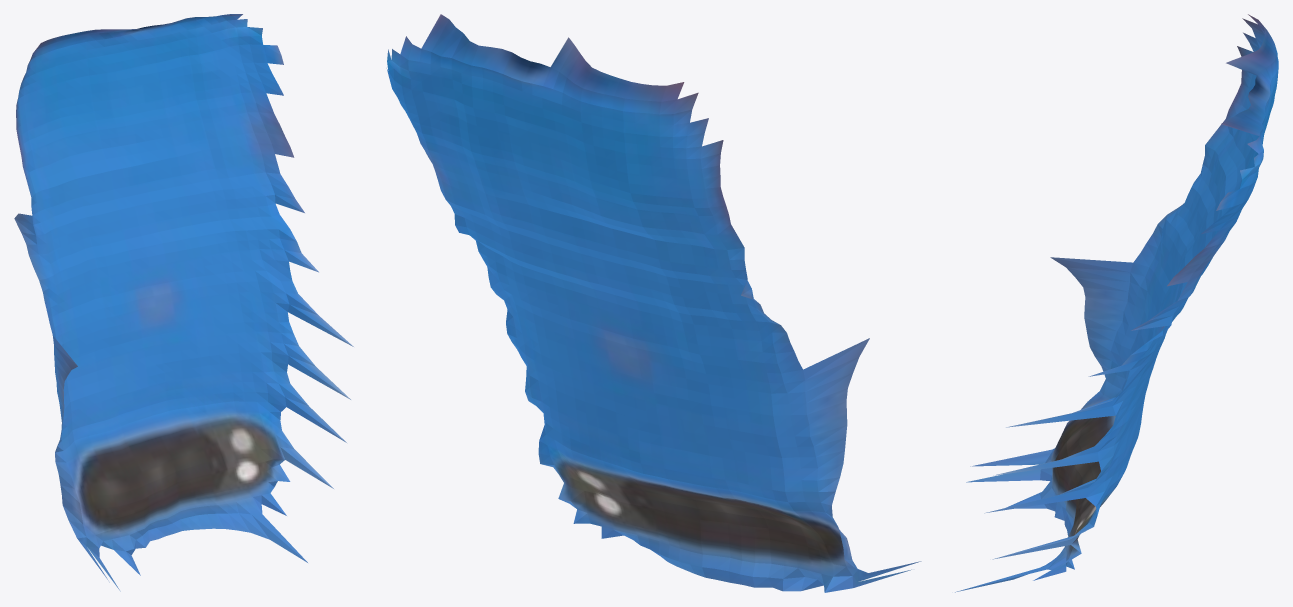
Rendered from observed-surface.glb.
The picture shows the model from 3 angles, left to right: view 1: azimuth 30°, elevation 25°; view 2: azimuth 150°, elevation 25°; view 3: azimuth 270°, elevation 25°; orthographic projection. The views are drawn at different scales.
Parts seen in each view (by area): view 1: geometry_0; view 2: geometry_0; view 3: geometry_0.
Part boxes in pixels (x1=…): geometry_0: x1=14, y1=14, x2=353, y2=591; geometry_0: x1=386, y1=14, x2=921, y2=592; geometry_0: x1=955, y1=14, x2=1278, y2=592.
Bounding box in the file's own units: 0.2808 × 0.43 × 0.2513.
1 material, 1 textured.
